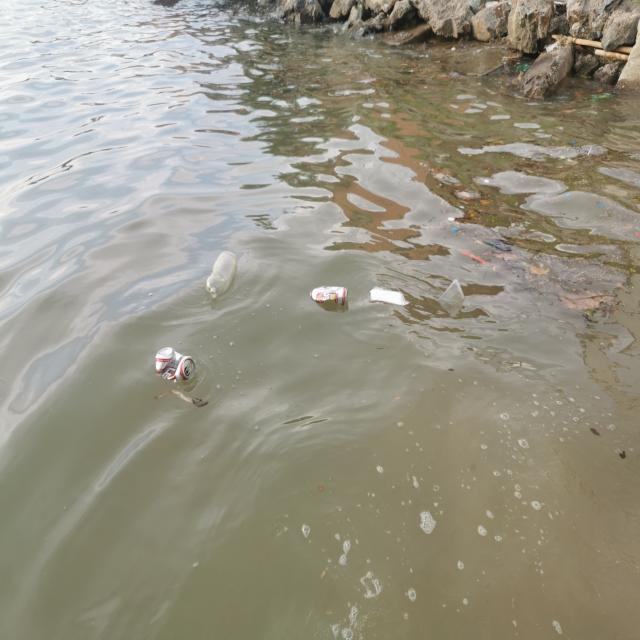can: (150, 342, 200, 383), (306, 281, 354, 308)
foam: (367, 282, 409, 310)
plastic: (201, 245, 240, 303)
plastic bottle: (436, 276, 467, 307)
